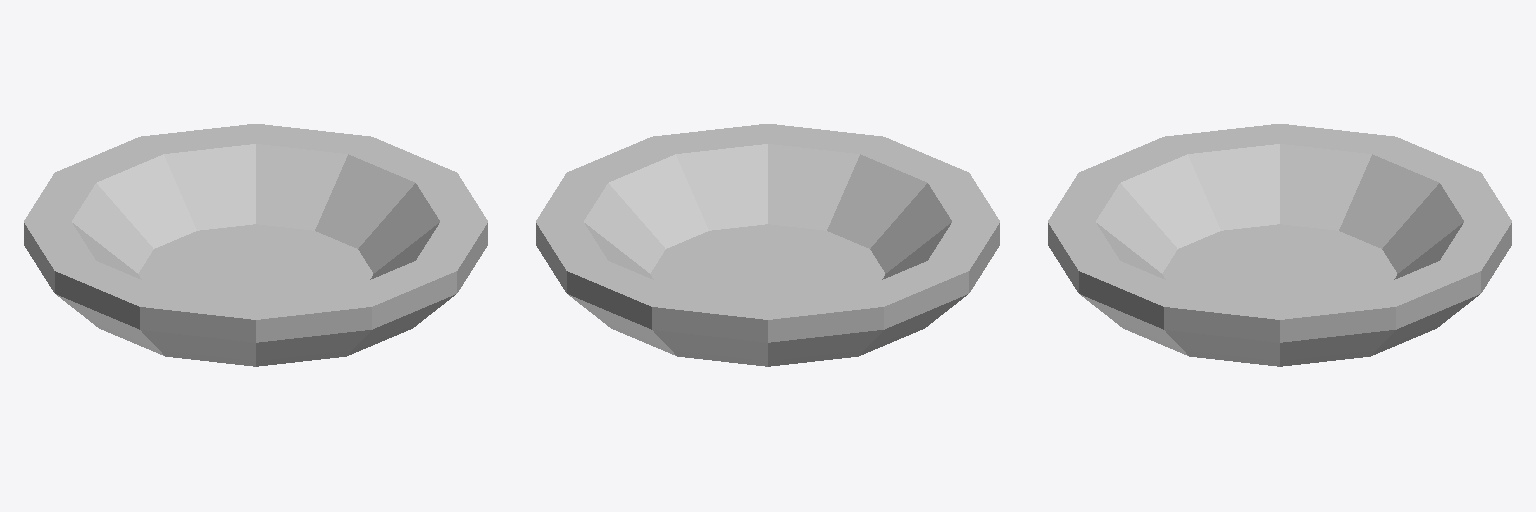
Rendered from plate-deep.obj.
3 renders of one model, left to right at view 1: azimuth 30°, elevation 25°; view 2: azimuth 150°, elevation 25°; view 3: azimuth 270°, elevation 25°, orthographic.
Visible parts, largest first — view 1: plate-deep; view 2: plate-deep; view 3: plate-deep.
Part boxes in pixels (bbox=[...]): plate-deep: bbox=[24, 124, 487, 366]; plate-deep: bbox=[536, 124, 999, 366]; plate-deep: bbox=[1048, 124, 1511, 366].
Bounding box in the file's own units: 0.8918 × 0.1449 × 0.8918.